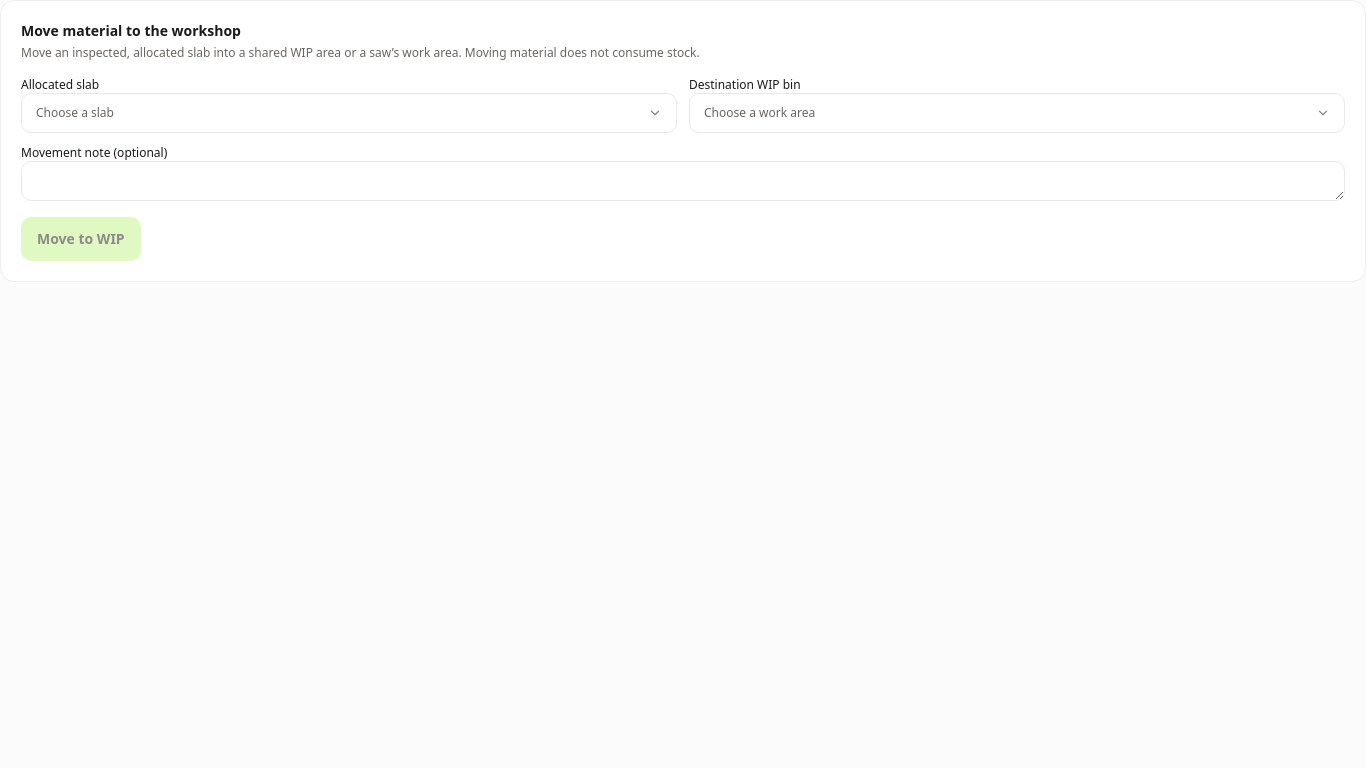
Scenario: WIP movement › offers same-location WIP bins and submits the versioned action
This screenshot has width=1366, height=768.
Click the dropdown named "Allocated slab".
click(75, 112)  # box 21,93 -> 677,133
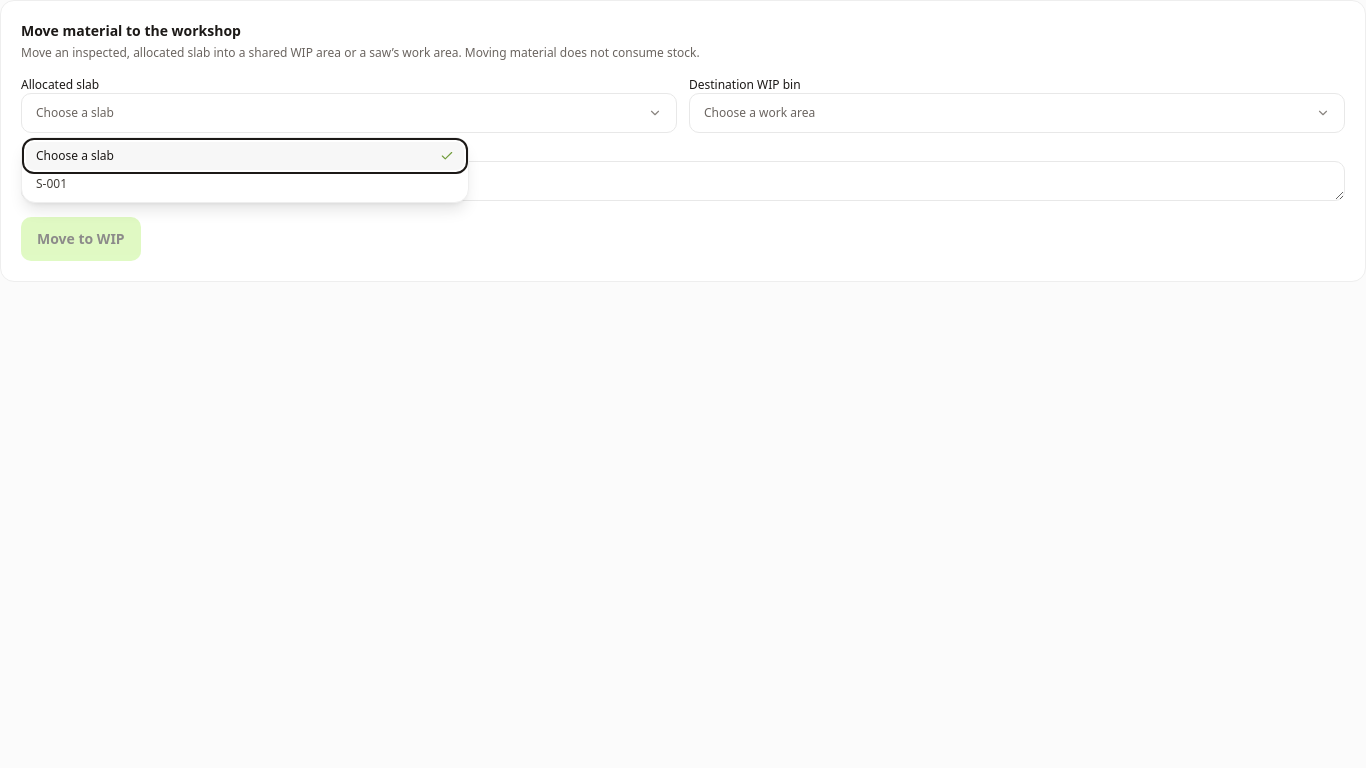
Click the option "S-001".
click(52, 184)  # box 26,170 -> 464,198
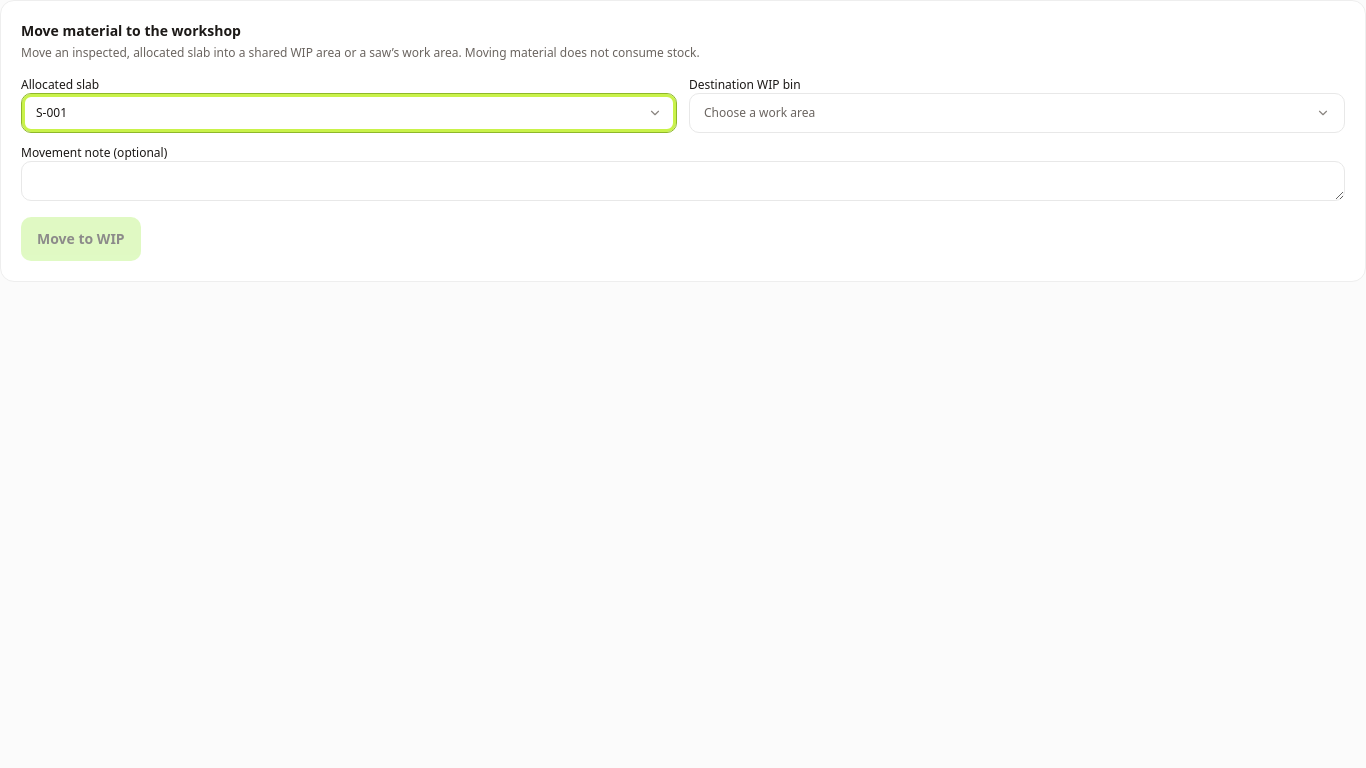
Click the dropdown named "Destination WIP bin".
click(760, 112)  # box 689,93 -> 1345,133
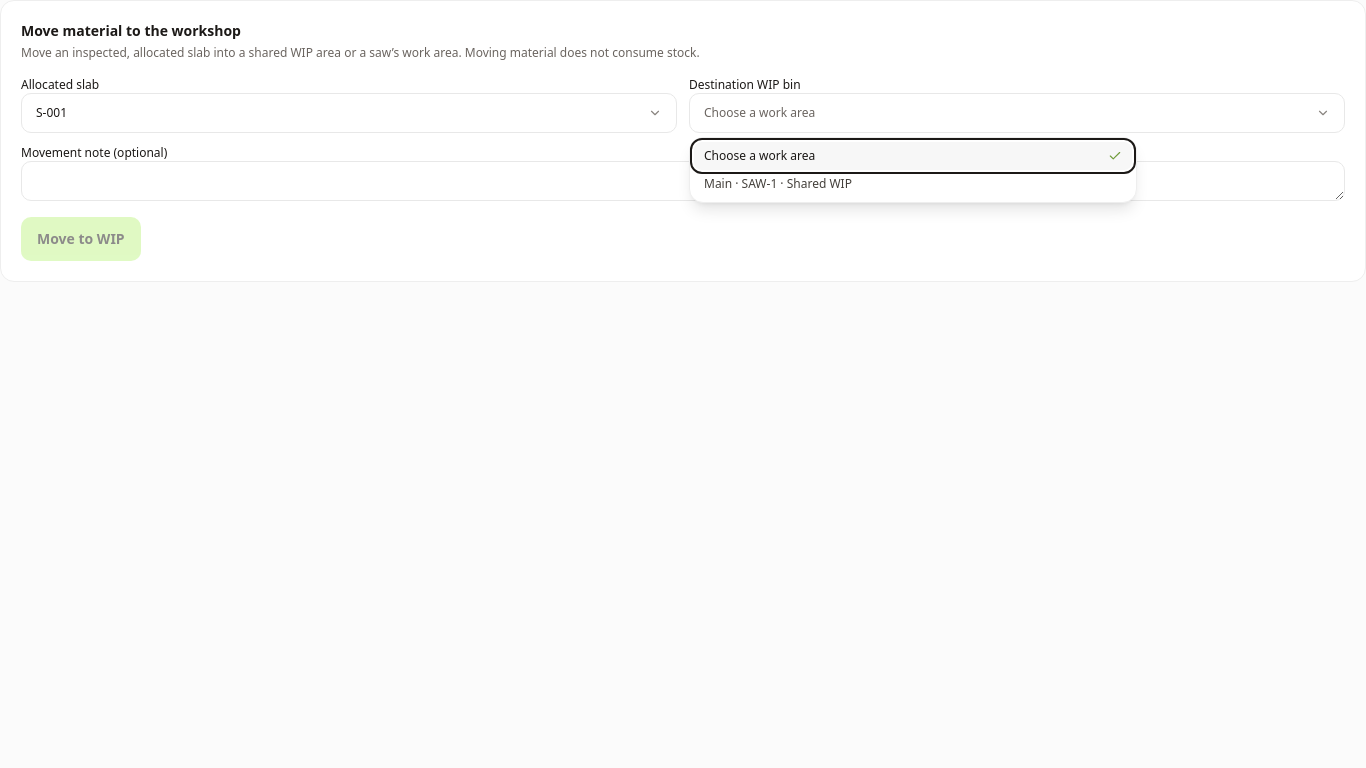
Click the option "Main · SAW-1 · Shared WIP".
click(778, 184)  # box 694,170 -> 1132,198
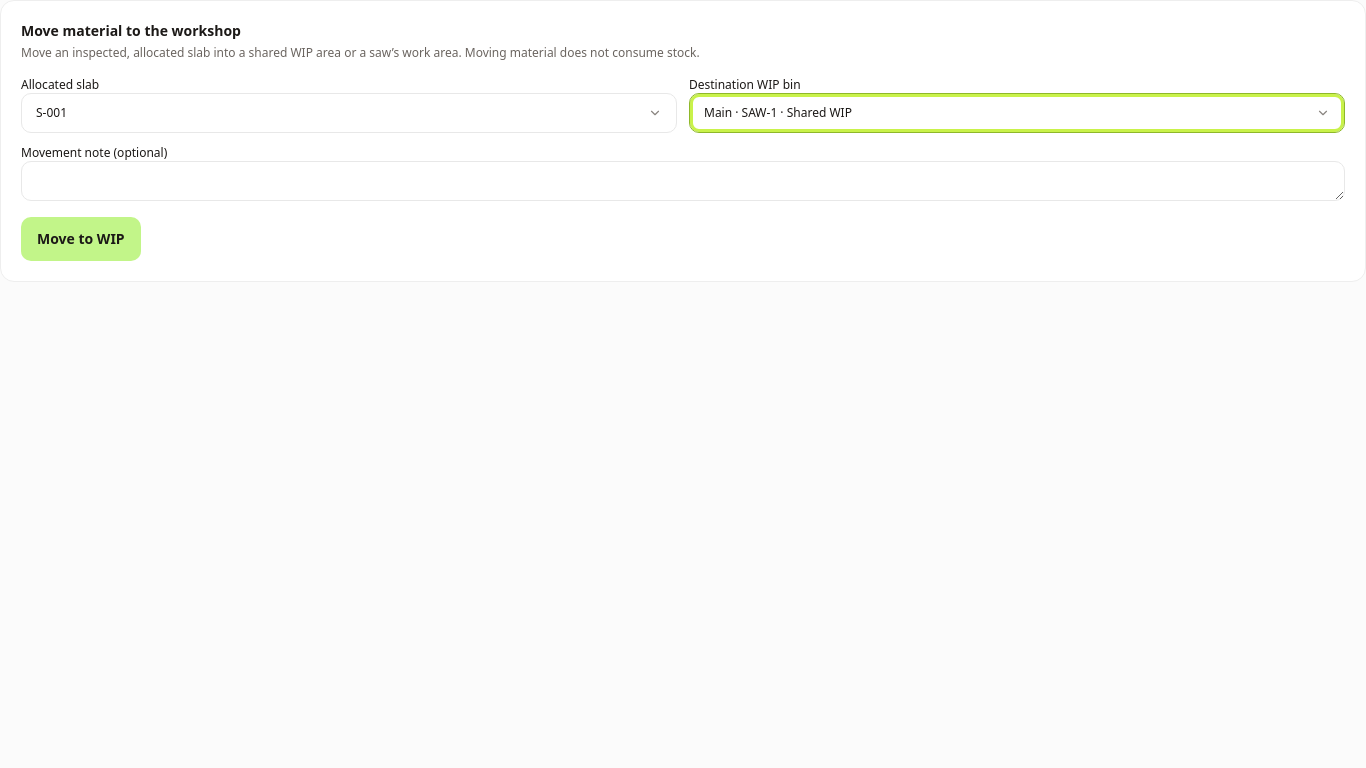
Click the button "Move to WIP".
click(81, 239)  # box 21,217 -> 141,261
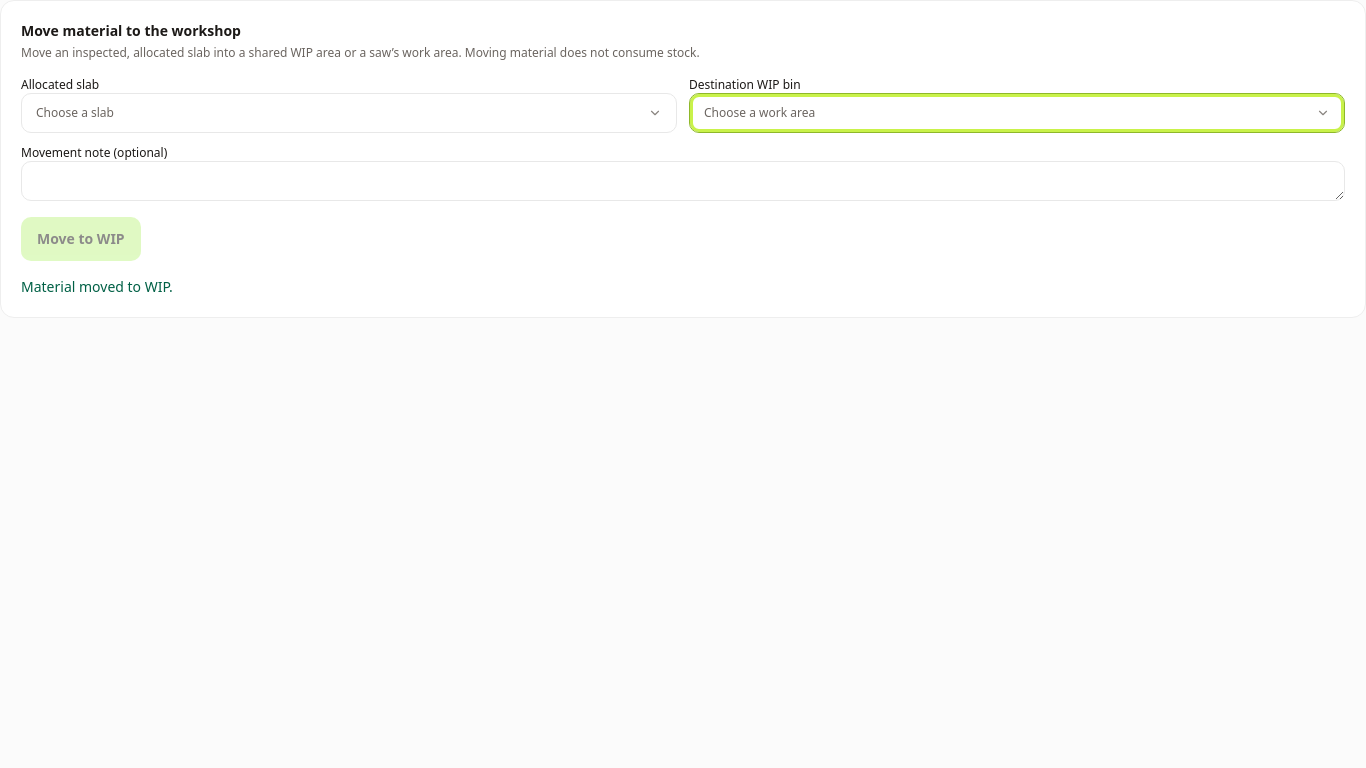
Expected: the text "Material moved to WIP." is shown, 21,277 -> 173,296
